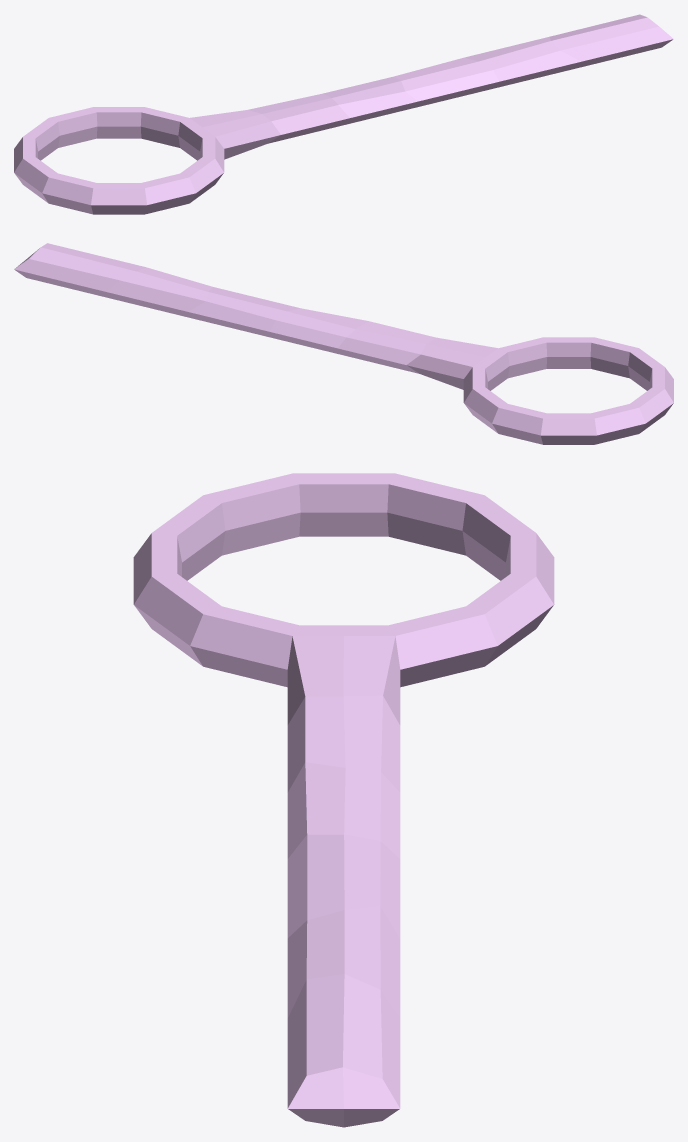
Rendered from SM_BubbleWand.fbx.
3 renders of one model, top to bottom at view 1: azimuth 30°, elevation 25°; view 2: azimuth 150°, elevation 25°; view 3: azimuth 270°, elevation 25°, orthographic. The views are drawn at different scales.
Visible parts, largest first — view 1: Bubble_Wand; view 2: Bubble_Wand; view 3: Bubble_Wand.
Part boxes in pixels (x1,y1,x2,y2): Bubble_Wand: [14, 14, 673, 214]; Bubble_Wand: [14, 243, 673, 444]; Bubble_Wand: [133, 473, 554, 1127].
Bounding box in the file's own units: 59.03 × 2.64 × 17.01.
